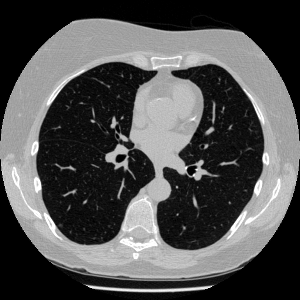nodule: (58, 223, 62, 227)
